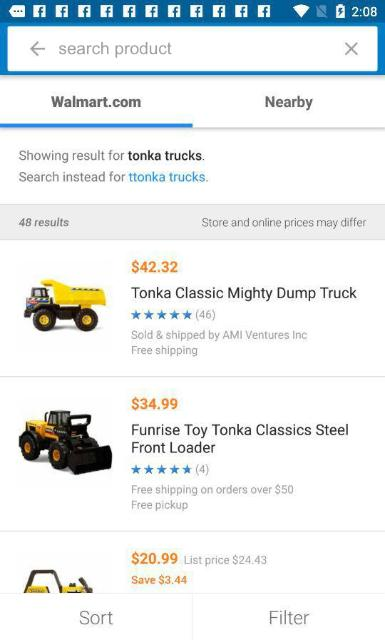EditText: (7, 27, 377, 72)
Icon: (131, 309, 193, 319), (130, 463, 192, 473), (29, 42, 45, 56), (344, 42, 358, 56)
Image: (18, 408, 112, 476), (23, 278, 107, 332), (23, 569, 93, 593)
List: (0, 239, 385, 592)
Multi_Tab: (0, 75, 384, 127)
Text: (132, 422, 348, 454), (131, 286, 357, 302), (18, 170, 208, 182), (18, 150, 204, 162), (202, 217, 366, 230), (131, 329, 307, 341), (131, 484, 292, 496), (58, 42, 172, 58), (51, 95, 141, 107), (184, 554, 266, 566), (131, 344, 197, 356), (130, 550, 178, 566), (131, 573, 187, 585), (132, 499, 188, 511), (130, 259, 178, 273), (264, 96, 312, 110), (131, 396, 177, 410), (270, 610, 310, 624), (80, 611, 112, 625), (18, 218, 70, 226), (196, 308, 214, 320), (196, 462, 208, 476)
TextButton: (1, 592, 192, 640), (192, 592, 385, 639)
Toolbar: (0, 23, 384, 75)
UpperTaskBar: (0, 0, 384, 22)
